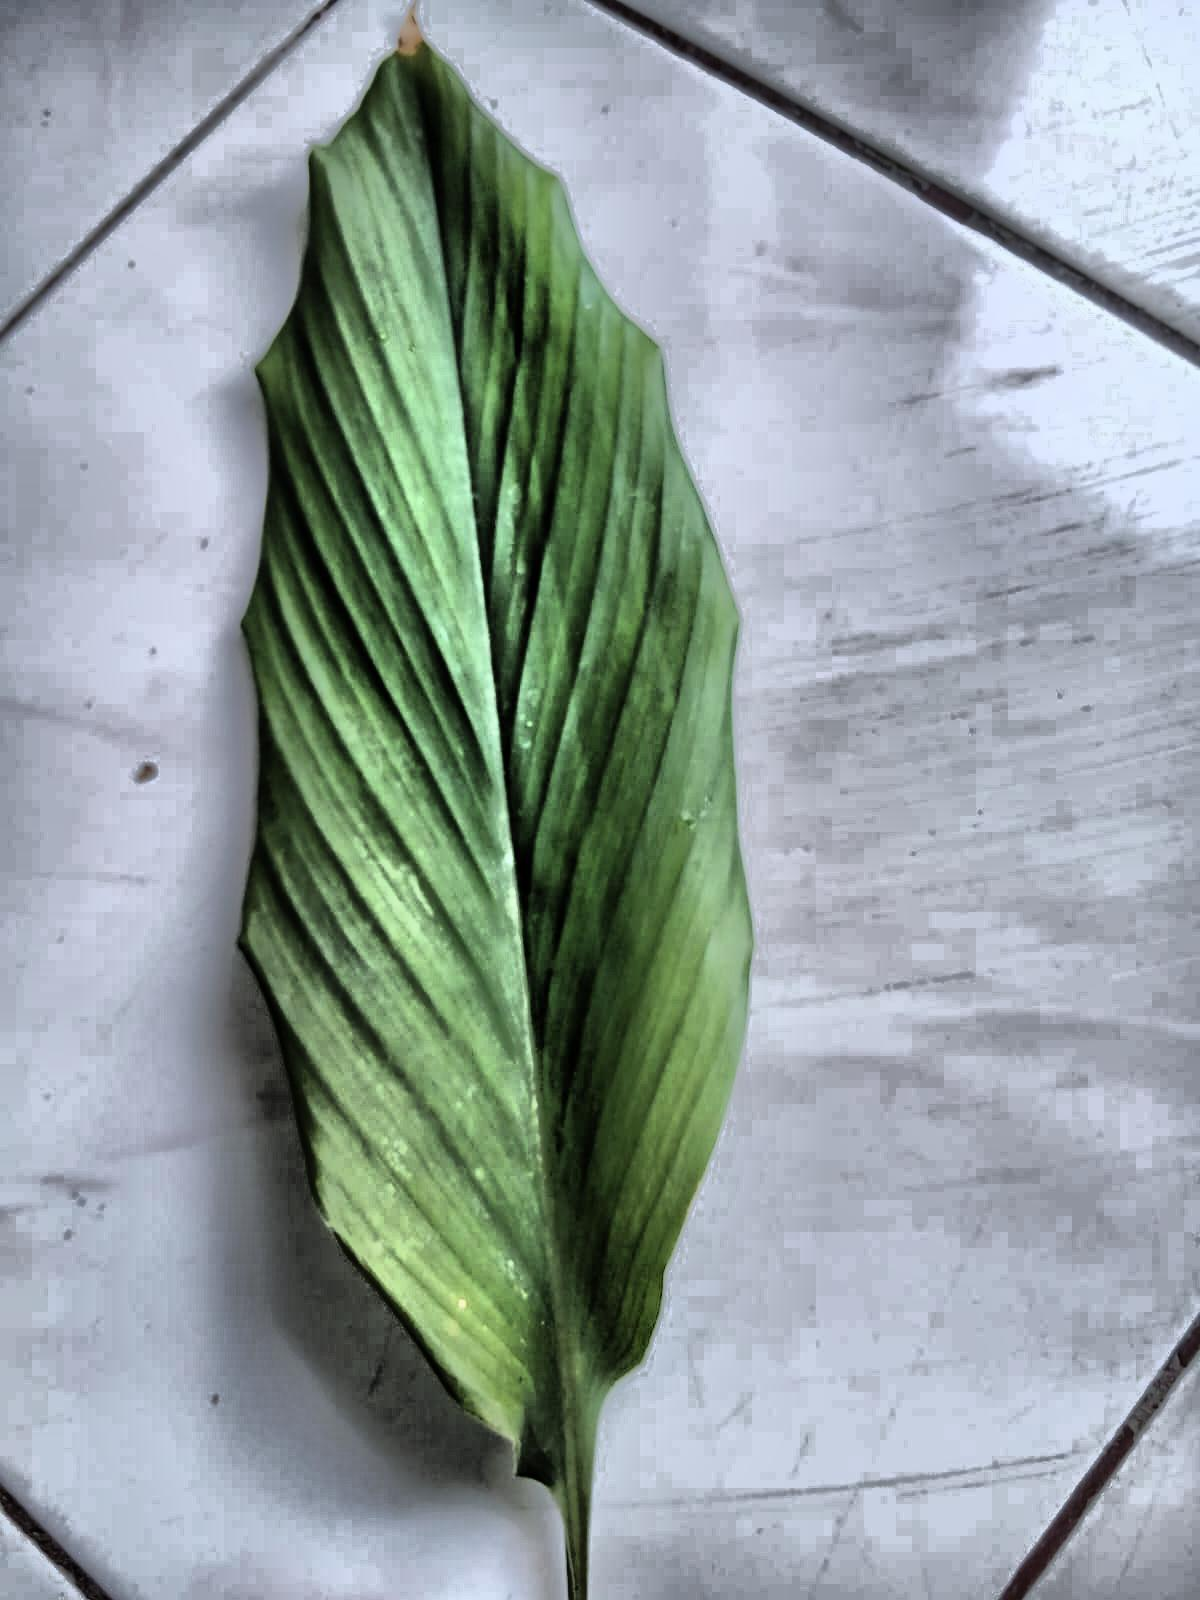daun kunyit: (241, 23, 753, 1599)
